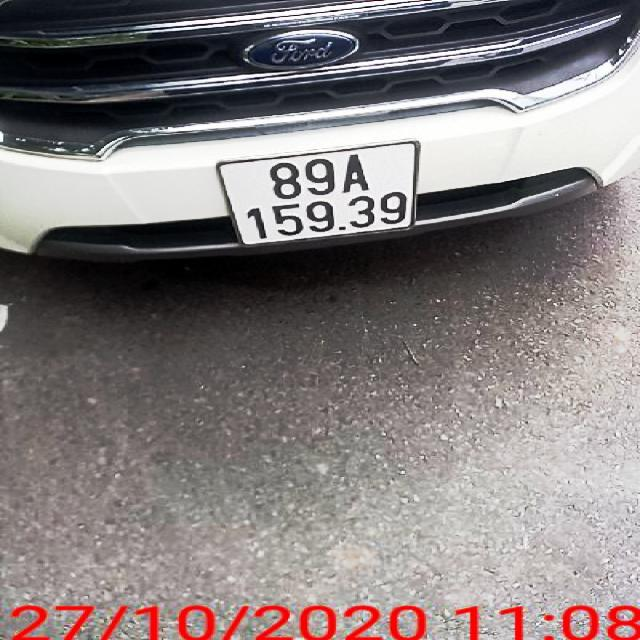license_plate: (221, 142, 417, 242)
